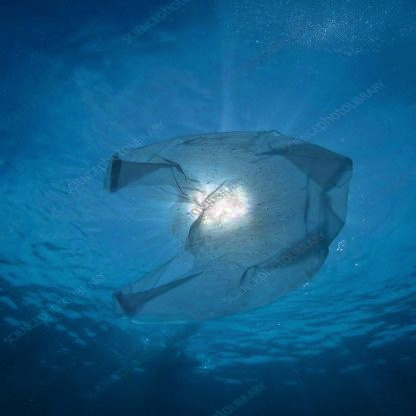pbag: (101, 130, 352, 323)
